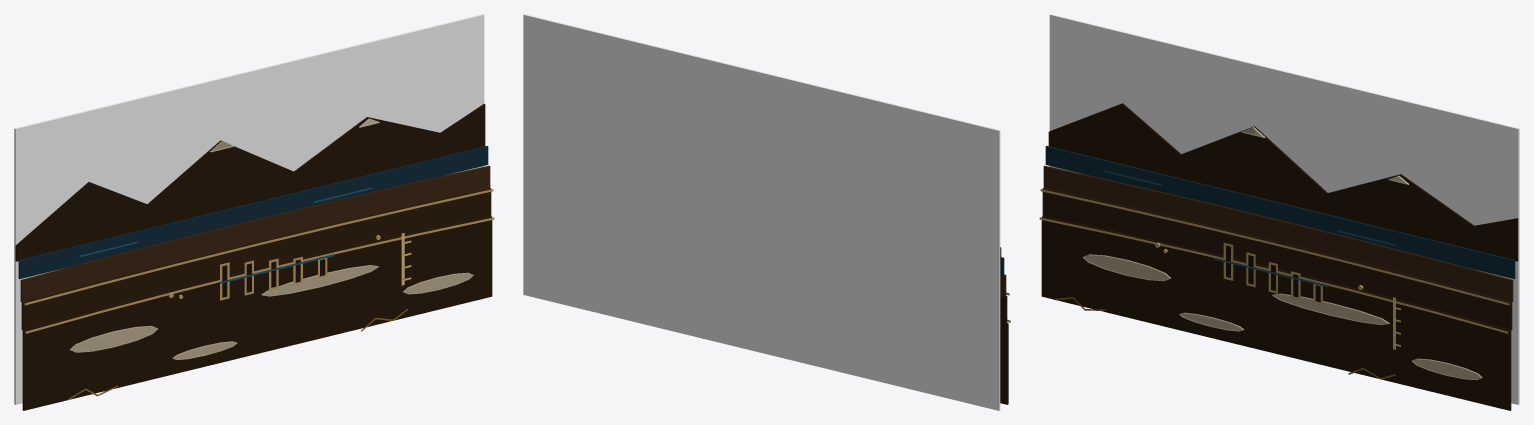
The model's file is loc-terrasa-regressiya.glb.
3 renders of one model, left to right at view 1: azimuth 30°, elevation 25°; view 2: azimuth 150°, elevation 25°; view 3: azimuth 330°, elevation 25°, orthographic.
Visible parts, largest first — view 1: loc-terrasa-regressiya; view 2: loc-terrasa-regressiya; view 3: loc-terrasa-regressiya.
Part boxes in pixels (left/top/right/bottom): loc-terrasa-regressiya: left=14, top=14, right=494, bottom=410; loc-terrasa-regressiya: left=523, top=14, right=1010, bottom=410; loc-terrasa-regressiya: left=1039, top=14, right=1519, bottom=410.
Size of the model in its own units: 5.33 by 3 by 0.54.
